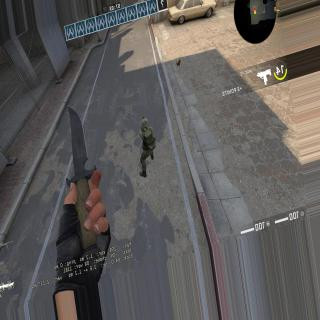CT-Body: (137, 115, 156, 165)
CT-Head: (140, 118, 149, 131)
